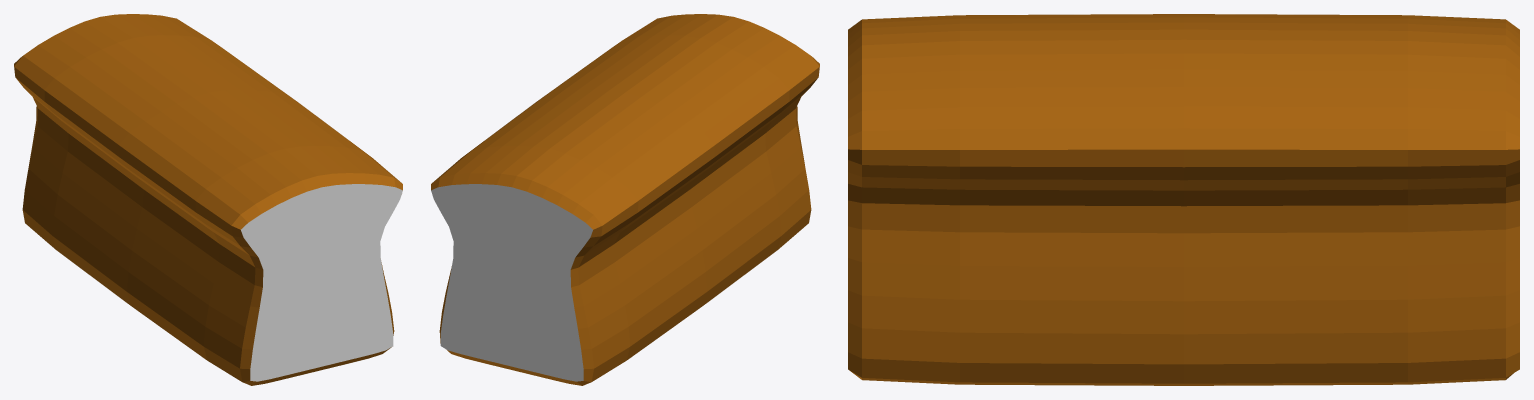
Rendered from Bread.fbx.
3 renders of one model, left to right at view 1: azimuth 30°, elevation 25°; view 2: azimuth 150°, elevation 25°; view 3: azimuth 270°, elevation 25°, orthographic. The views are drawn at different scales.
Visible parts, largest first — view 1: Cube; view 2: Cube; view 3: Cube.
Part boxes in pixels (x1=…): Cube: x1=14, y1=14, x2=402, y2=385; Cube: x1=431, y1=14, x2=819, y2=385; Cube: x1=848, y1=14, x2=1519, y2=385.
Bounding box in the file's own units: 227 × 247 × 500.
